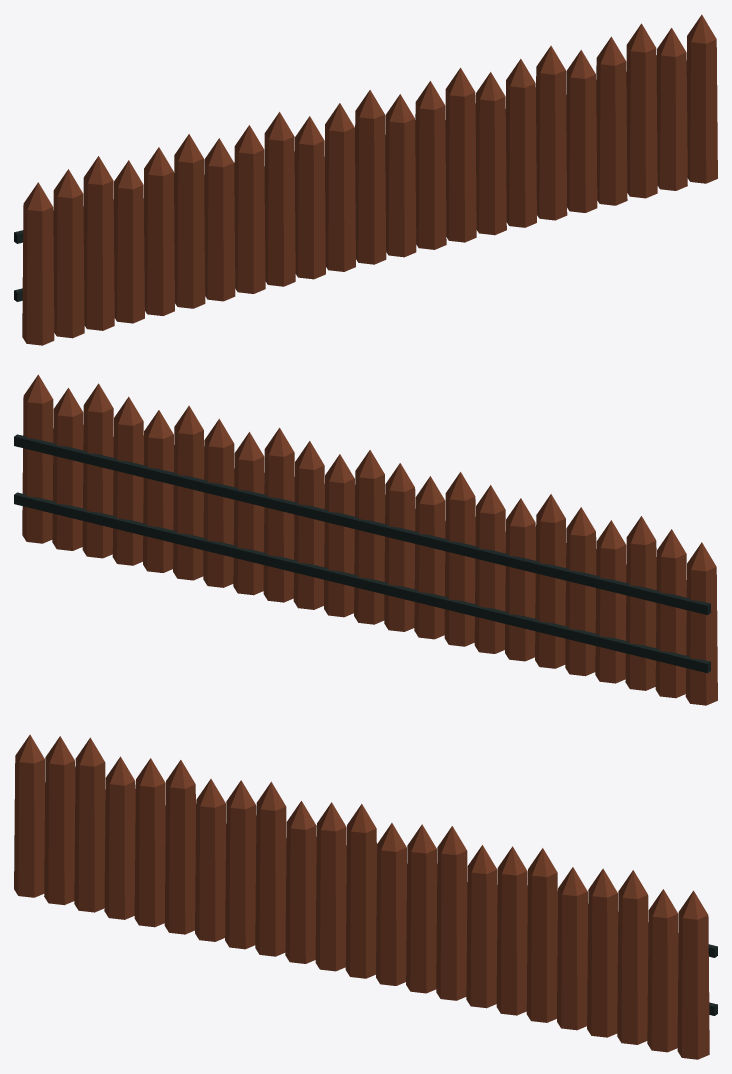
Rendered from bird_wall_broken.glb.
3 views of the same model, one above another, from view 1: azimuth 30°, elevation 25°; view 2: azimuth 150°, elevation 25°; view 3: azimuth 330°, elevation 25° (orthographic).
Parts seen in each view (by area): view 1: bird_wall_piece2, bird_wall_piece1, bird_wall_piece3, bird_wall_piece5, bird_wall_piece4, bird_wall_piece0, bird_wall_piece7, bird_wall_piece8, bird_wall_piece6, bird_wall_piece10, bird_wall_piece13, bird_wall_piece11; view 2: bird_wall_piece2, bird_wall_piece4, bird_wall_piece1, bird_wall_piece8, bird_wall_piece3, bird_wall_piece0, bird_wall_piece5, bird_wall_piece6, bird_wall_piece11, bird_wall_piece7, bird_wall_piece10, bird_wall_piece9 (+2 smaller); view 3: bird_wall_piece2, bird_wall_piece1, bird_wall_piece3, bird_wall_piece5, bird_wall_piece4, bird_wall_piece0, bird_wall_piece7, bird_wall_piece8, bird_wall_piece6, bird_wall_piece10, bird_wall_piece13, bird_wall_piece11.
Part boxes in pixels (x1,y1,x2,y2): bird_wall_piece2: (566,14,717,208); bird_wall_piece1: (22,204,219,345); bird_wall_piece3: (432,63,596,249); bird_wall_piece5: (270,148,445,278); bird_wall_piece4: (180,103,354,235); bird_wall_piece0: (385,72,508,228); bird_wall_piece7: (191,159,315,301); bird_wall_piece8: (14,147,162,294); bird_wall_piece6: (348,67,470,174); bird_wall_piece10: (128,163,207,282); bird_wall_piece13: (503,45,565,143); bird_wall_piece11: (114,147,206,239); bird_wall_piece2: (14,374,166,572); bird_wall_piece4: (386,463,558,612); bird_wall_piece1: (508,579,717,705); bird_wall_piece8: (572,507,717,668); bird_wall_piece3: (159,422,296,604); bird_wall_piece0: (212,432,354,585); bird_wall_piece5: (312,507,458,638); bird_wall_piece6: (249,427,406,565); bird_wall_piece11: (505,506,646,626); bird_wall_piece7: (433,529,535,656); bird_wall_piece10: (495,538,596,657); bird_wall_piece9: (177,454,318,609); bird_wall_piece2: (565,867,717,1059); bird_wall_piece1: (14,793,197,937); bird_wall_piece3: (409,878,575,1029); bird_wall_piece5: (256,867,424,989); bird_wall_piece4: (173,760,345,898); bird_wall_piece0: (377,845,497,975); bird_wall_piece7: (169,785,292,962); bird_wall_piece8: (14,734,155,823); bird_wall_piece6: (326,804,467,881); bird_wall_piece10: (108,786,195,911); bird_wall_piece13: (484,846,557,923); bird_wall_piece11: (98,766,195,823).
Bounding box in the file's own units: 6.25 × 1.45 × 0.2706.
